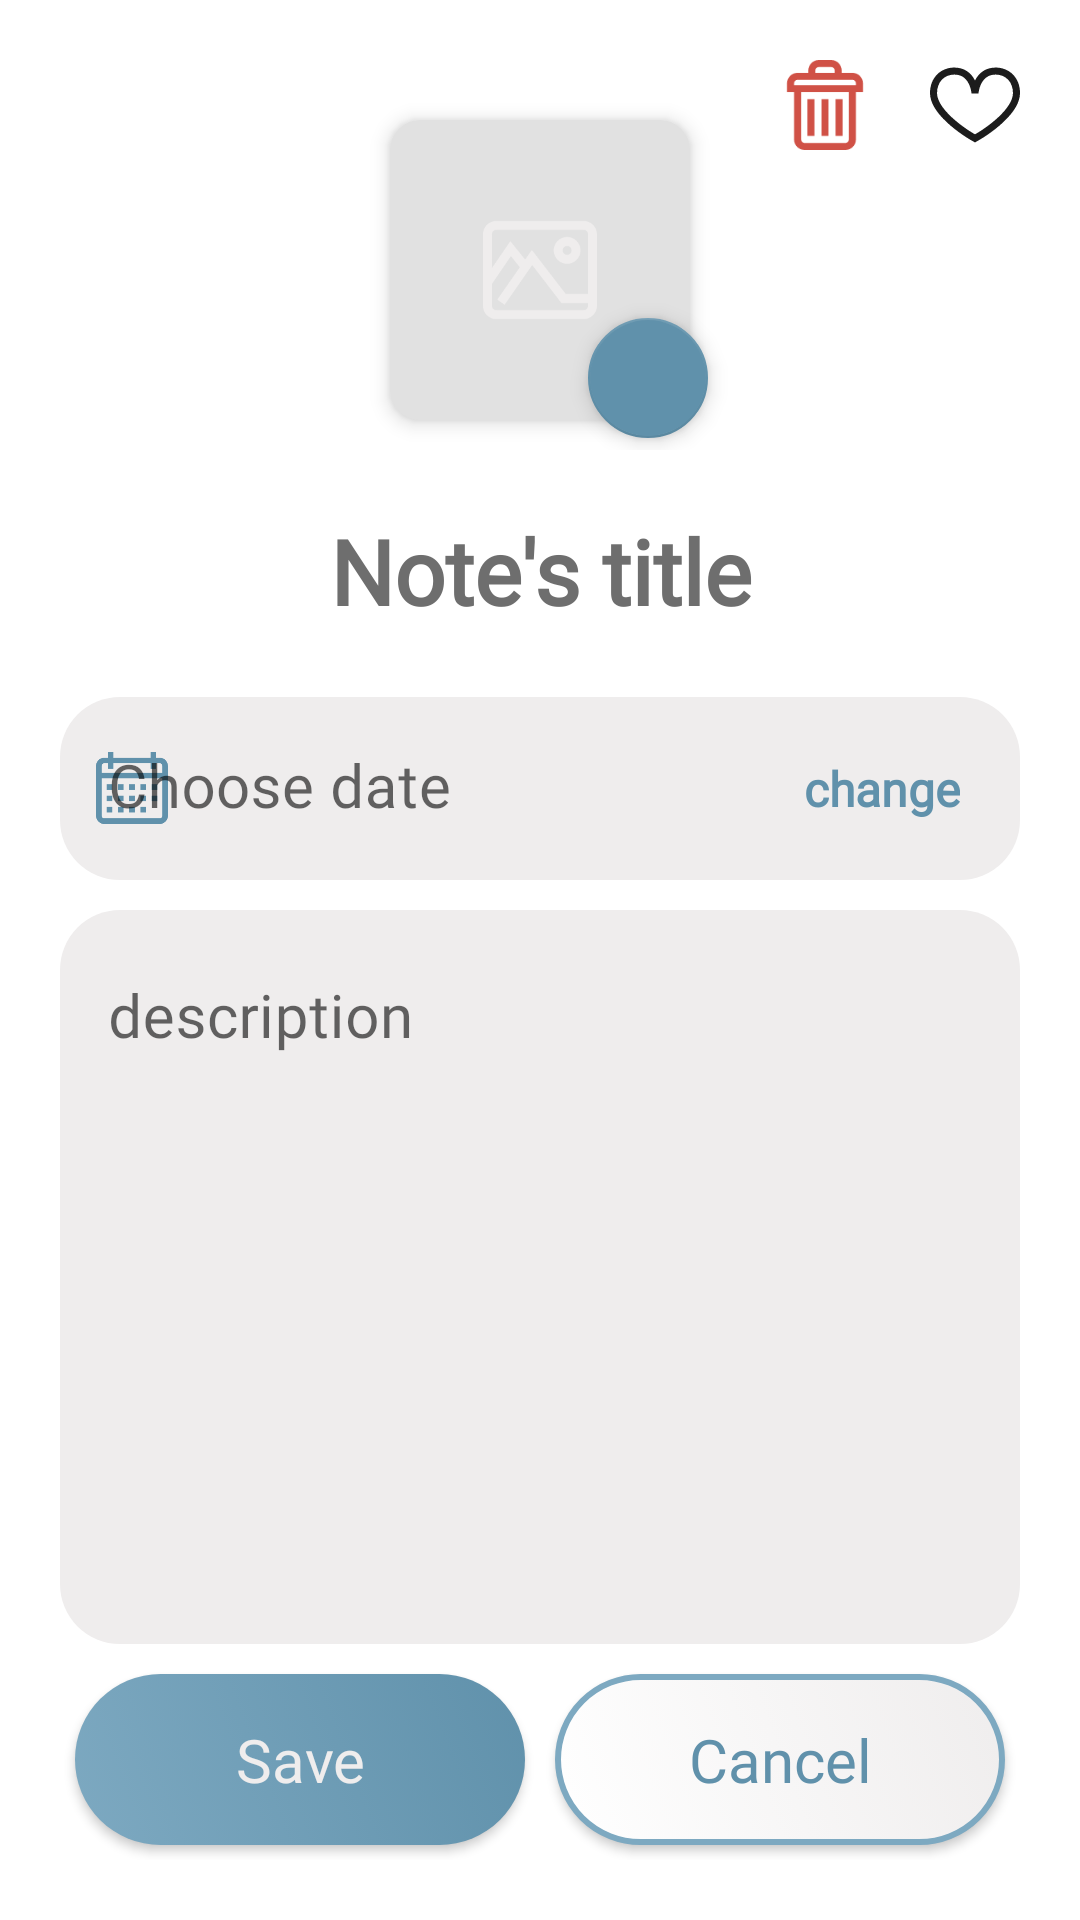

Named icons in this screenshot (1080w x 1920h) and their centers, (x=x, y=y):
delete: (x=825, y=105)
heart off: (x=975, y=105)
